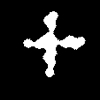single_crochet: (23, 11, 84, 76)
